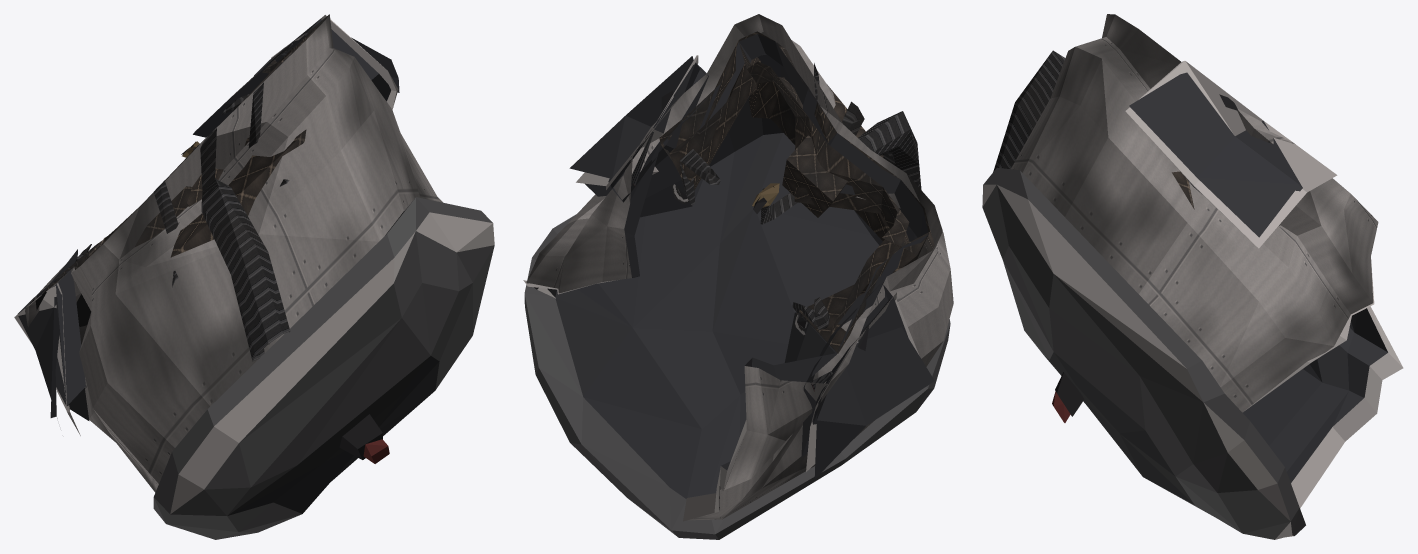
Rendered from crashed_pod_v1_s0.fbx.
3 views of the same model, side by side, from view 1: azimuth 30°, elevation 25°; view 2: azimuth 150°, elevation 25°; view 3: azimuth 270°, elevation 25° (orthographic). The views are drawn at different scales.
Parts seen in each view (by area): view 1: crashed_pod_v1_s0_lod0; view 2: crashed_pod_v1_s0_lod0; view 3: crashed_pod_v1_s0_lod0.
Part boxes in pixels (bbox=[...]): crashed_pod_v1_s0_lod0: bbox=[14, 14, 494, 539]; crashed_pod_v1_s0_lod0: bbox=[523, 14, 953, 539]; crashed_pod_v1_s0_lod0: bbox=[982, 14, 1403, 539].
Size of what is drawn, in the model's own units: 131 by 153 by 112.
3 materials, 3 textured.
